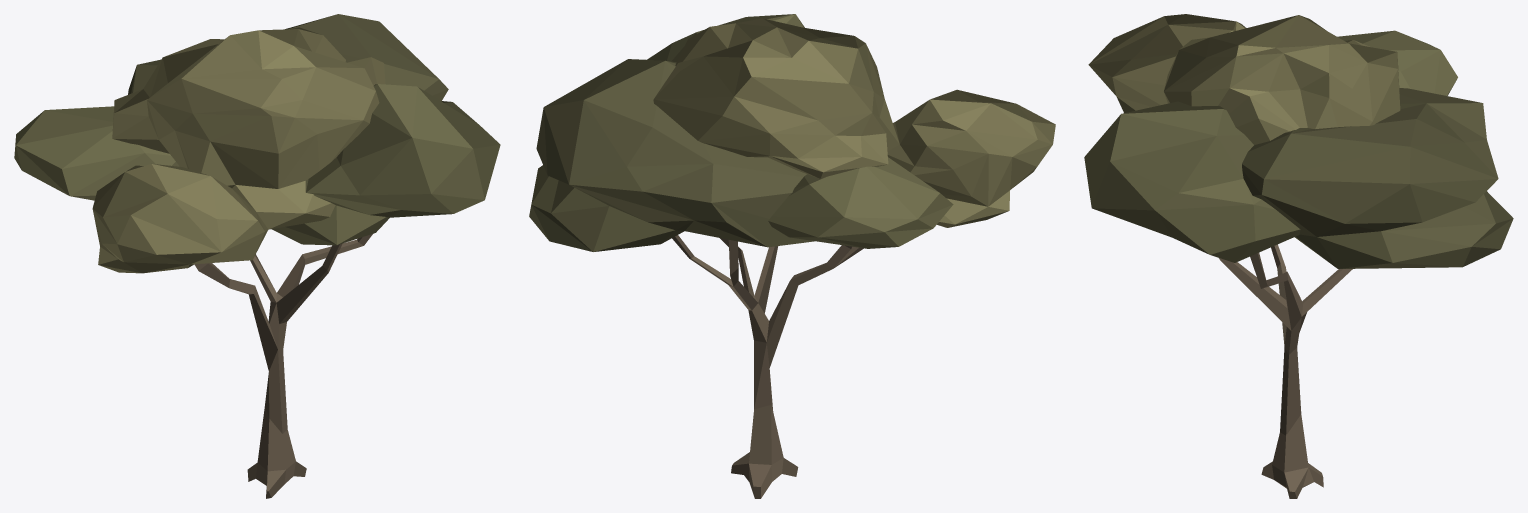
Rendered from SM_Env_Tree_Round_03.glb.
The picture shows the model from 3 angles, left to right: view 1: azimuth 30°, elevation 25°; view 2: azimuth 150°, elevation 25°; view 3: azimuth 270°, elevation 25°; orthographic projection.
Visible parts, largest first — view 1: SM_Env_Tree_Round_03; view 2: SM_Env_Tree_Round_03; view 3: SM_Env_Tree_Round_03.
Boxes of the visible parts, x1,y1,x2,y2 form: SM_Env_Tree_Round_03: (14,14,500,498); SM_Env_Tree_Round_03: (529,14,1055,498); SM_Env_Tree_Round_03: (1084,14,1513,498).
Bounding box in the file's own units: 6.66 × 7.03 × 6.09.
Materials: 1 (1 with a texture image).
